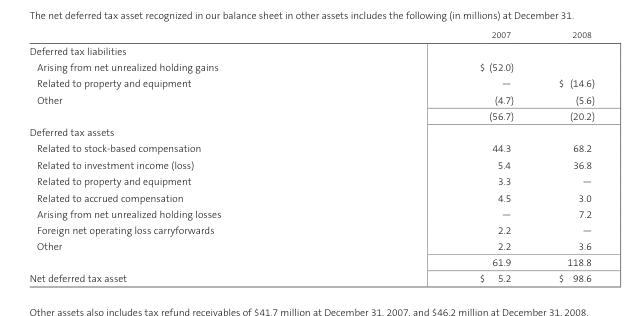table: (28, 29, 593, 284)
table column: (28, 29, 349, 284), (349, 29, 535, 284), (535, 29, 593, 284)
table column header: (28, 29, 593, 42)
table projected row header: (28, 42, 593, 59), (28, 124, 593, 140)
table row: (28, 42, 593, 59), (28, 107, 593, 124), (28, 156, 593, 173), (28, 205, 593, 222), (28, 59, 593, 75), (28, 75, 593, 91), (28, 91, 593, 107), (28, 124, 593, 140), (28, 140, 593, 156), (28, 173, 593, 189), (28, 189, 593, 205), (28, 222, 593, 238), (28, 238, 593, 254), (28, 254, 593, 270), (28, 270, 593, 284), (28, 29, 593, 42)
